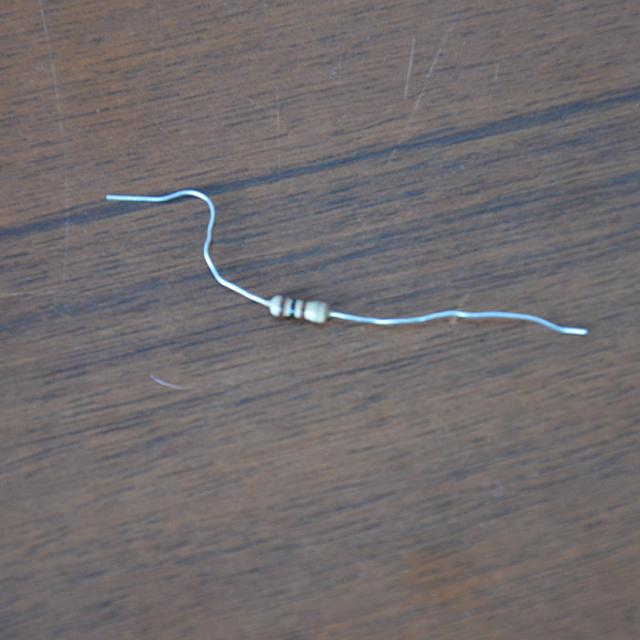black: (291, 299, 295, 315)
brown: (279, 297, 286, 314), (300, 301, 307, 317)
gold: (314, 303, 320, 319)
resistor: (262, 291, 338, 333)
